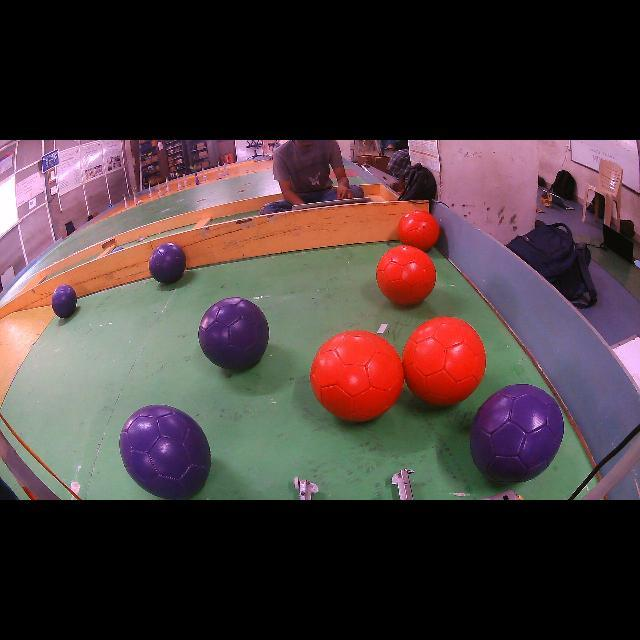P: (470, 385, 564, 482), (120, 405, 211, 499), (198, 298, 269, 369), (149, 242, 186, 284), (51, 285, 76, 318)
R: (310, 330, 404, 421), (402, 318, 486, 405), (376, 245, 436, 305), (398, 210, 440, 251)
